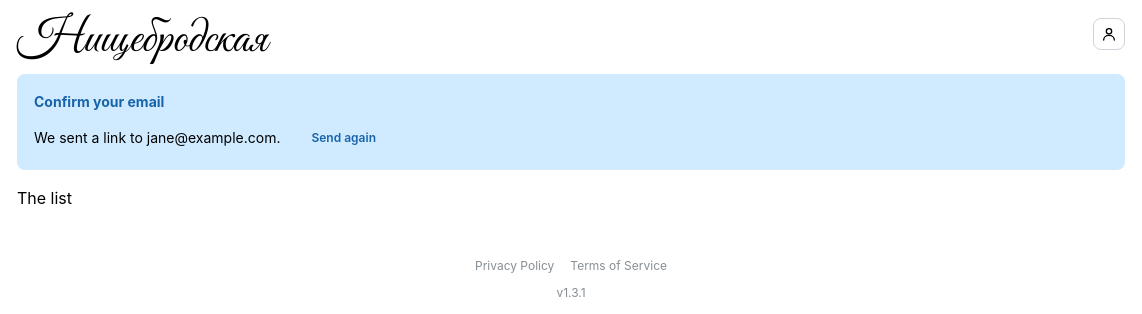
Test: reminds a user whose email is not confirmed, and sends the link again on request
Expected: the text "We sent a link to jane@example.com." is shown, [34, 128, 280, 148]
Click the button "Send again" at (344,138), box [296, 123, 391, 153]
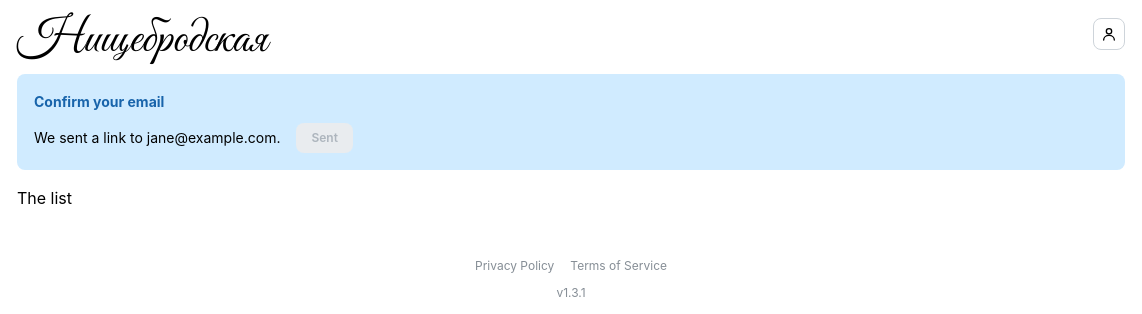
Result: the button "Sent" is disabled at [296, 123, 353, 153]
